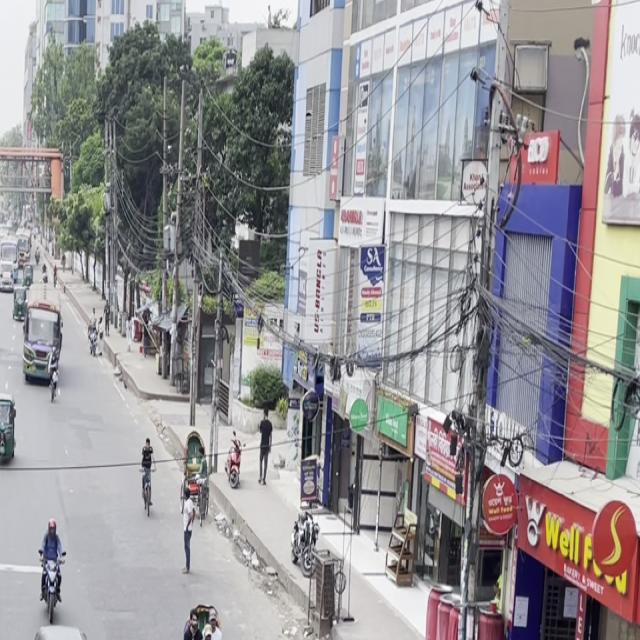bicycle: (134, 434, 160, 522)
bus: (21, 284, 64, 391)
motorbike: (32, 512, 73, 630)
rickshaw: (21, 617, 107, 640), (0, 386, 21, 472)
